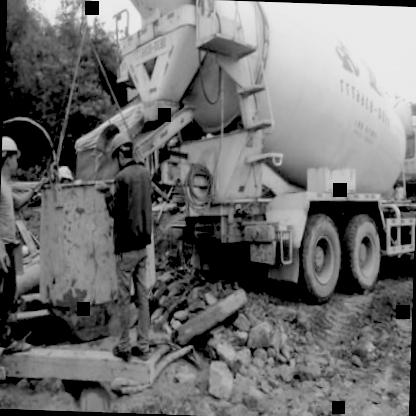helmet: (105, 129, 138, 176), (0, 134, 22, 180)
